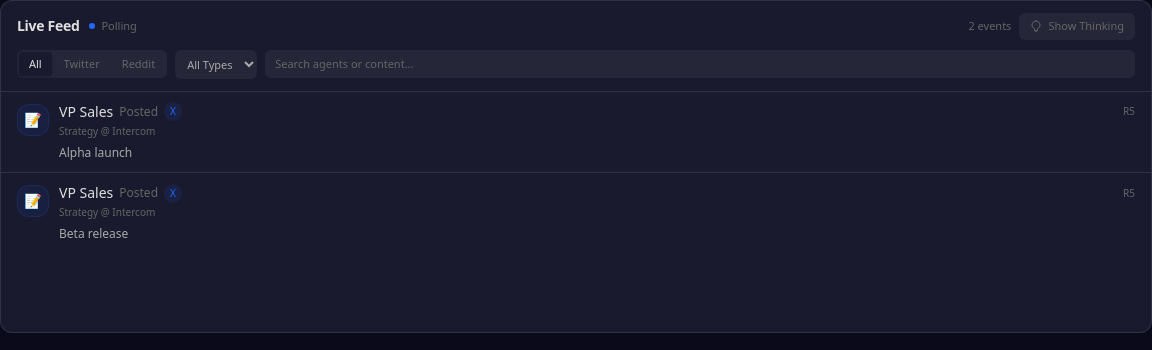
Test: LiveFeed › filters by search query matching content
Type "Alpha" into the field with placeholder "Search agents or content...". click: (700, 64)
box: [265,50,1135,78]
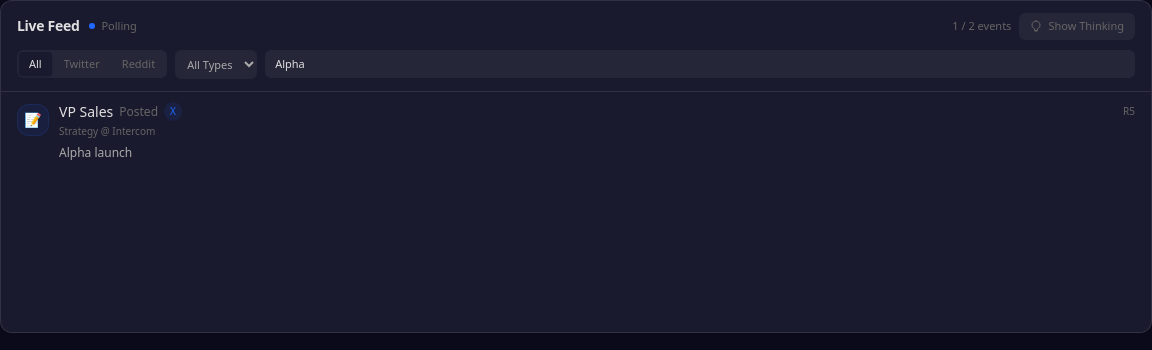
Expected: the text "Alpha launch" is shown, [59,144,132,160]
Result: the text "Beta release" is gone
